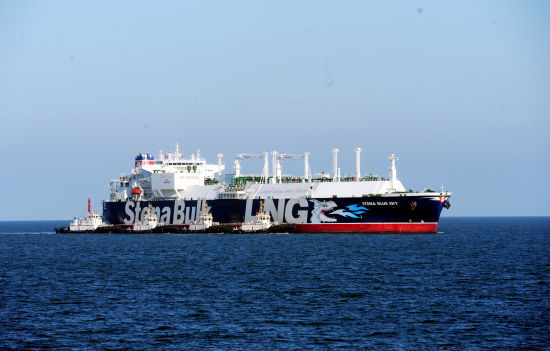Cargoship: (102, 140, 454, 239), (173, 205, 235, 237)
otherboat: (51, 202, 126, 239), (109, 203, 174, 239), (229, 205, 299, 237)
